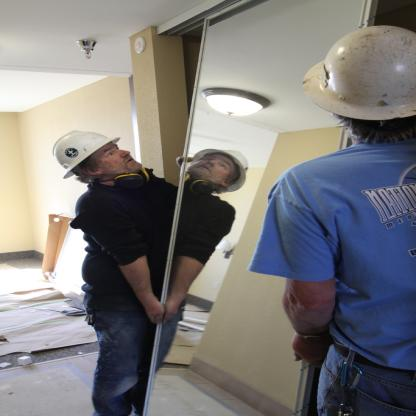Helmet: (320, 31, 411, 126), (52, 124, 136, 179), (188, 144, 262, 192)
